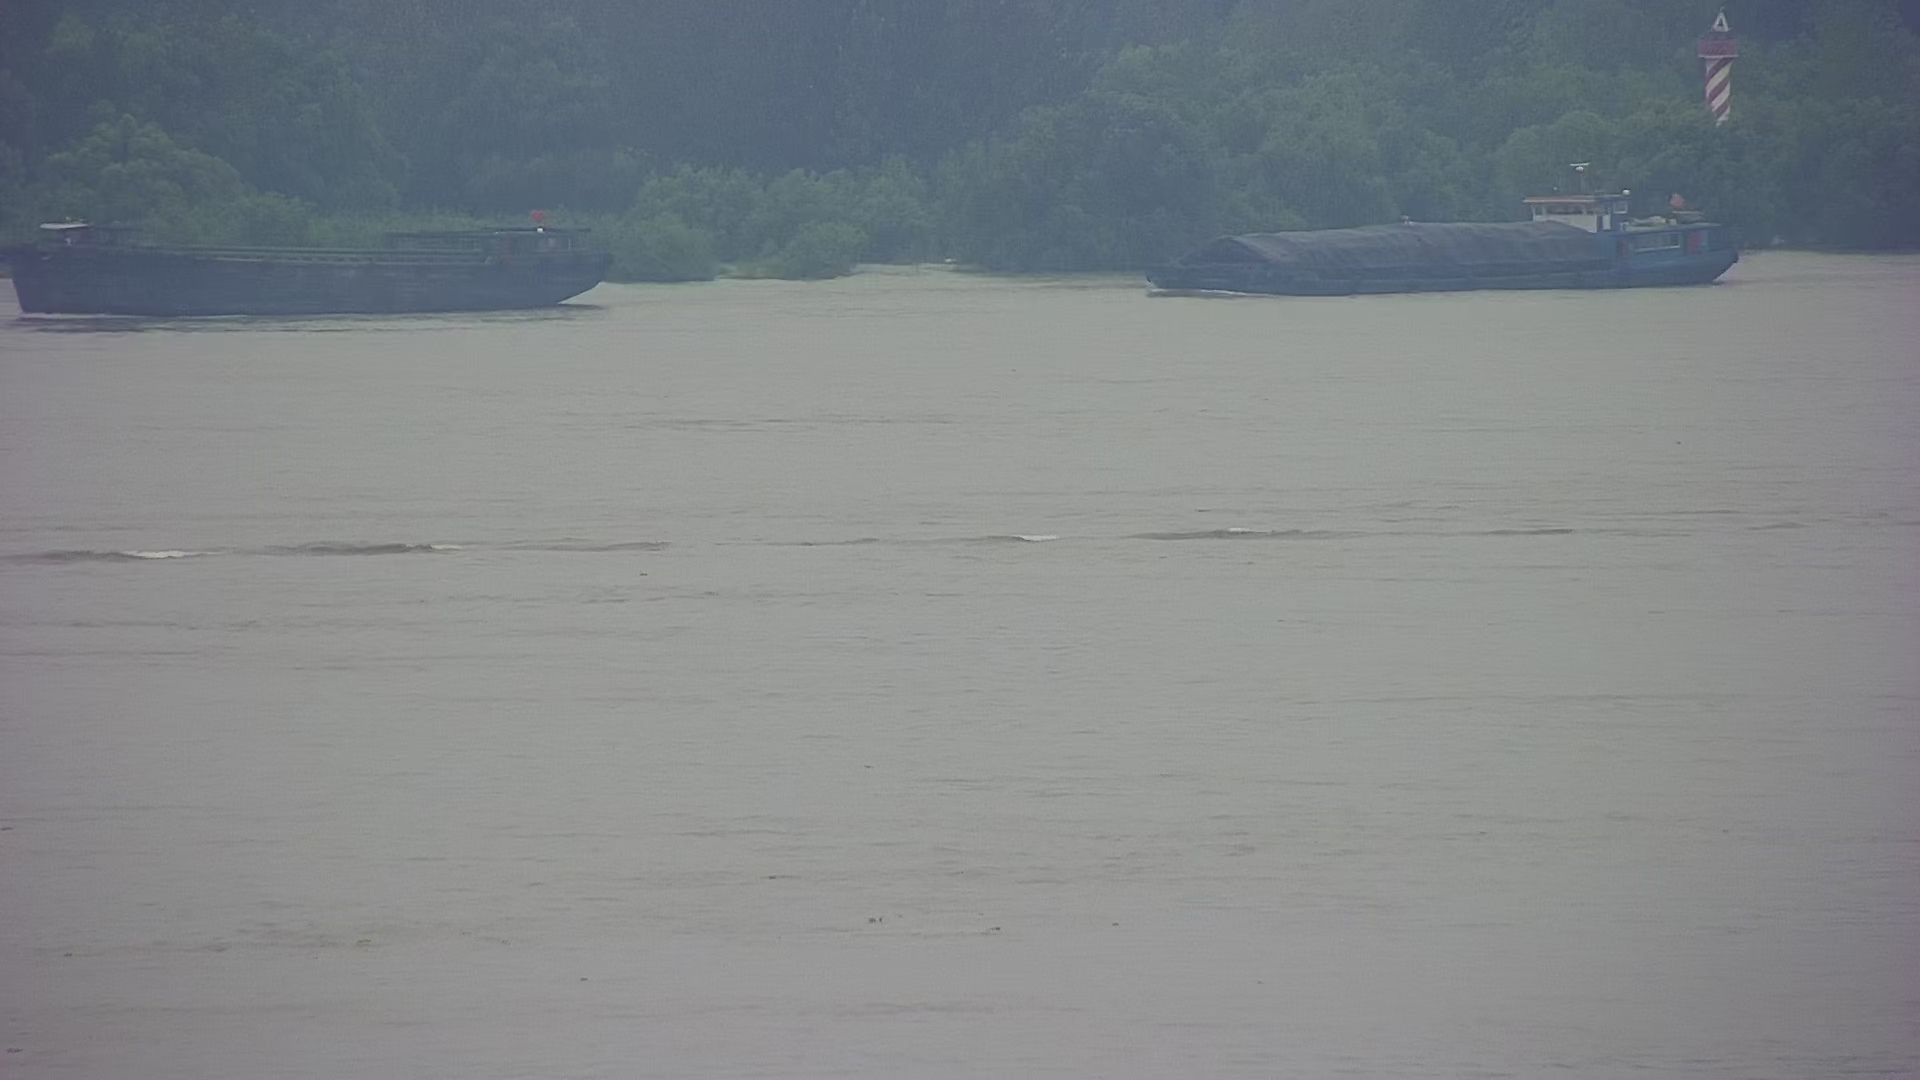ship: (1120, 152, 1760, 303), (8, 187, 640, 332)
